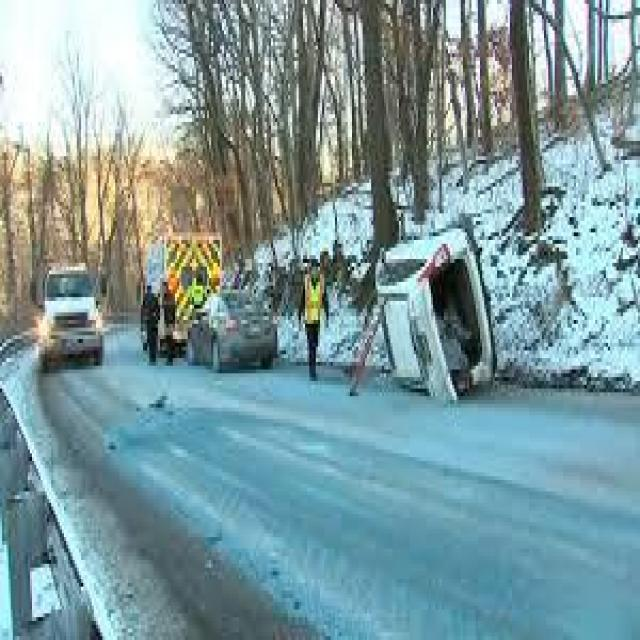accident: (367, 217, 499, 412)
